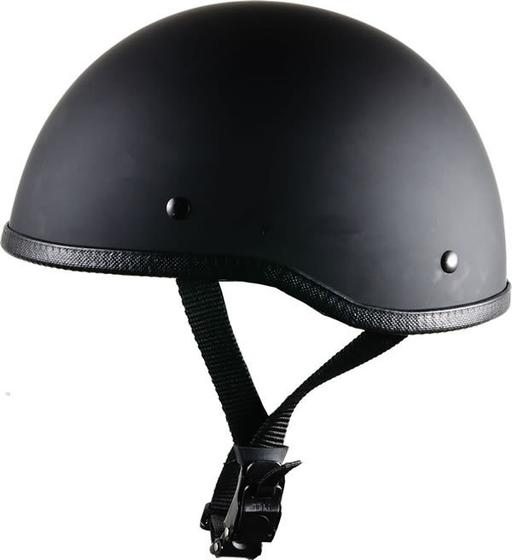with_helmet: (2, 1, 510, 560)
